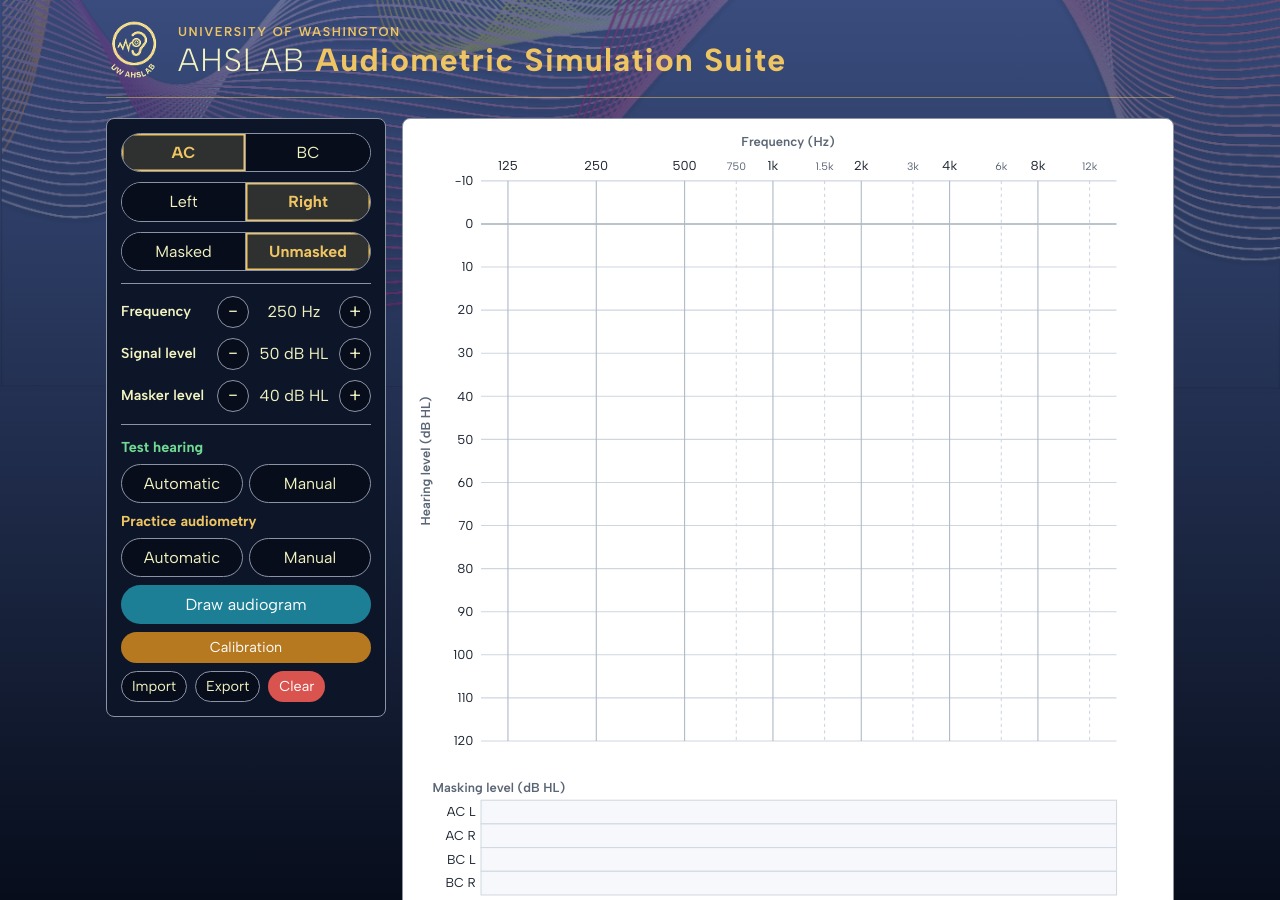
Test: generated draw audiogram › generates the selected scenario and clears its history when a hearing test starts
The width and height of the screenshot is (1280, 900).
Click the button "Draw audiogram" at (246, 605), box [121, 585, 371, 624]
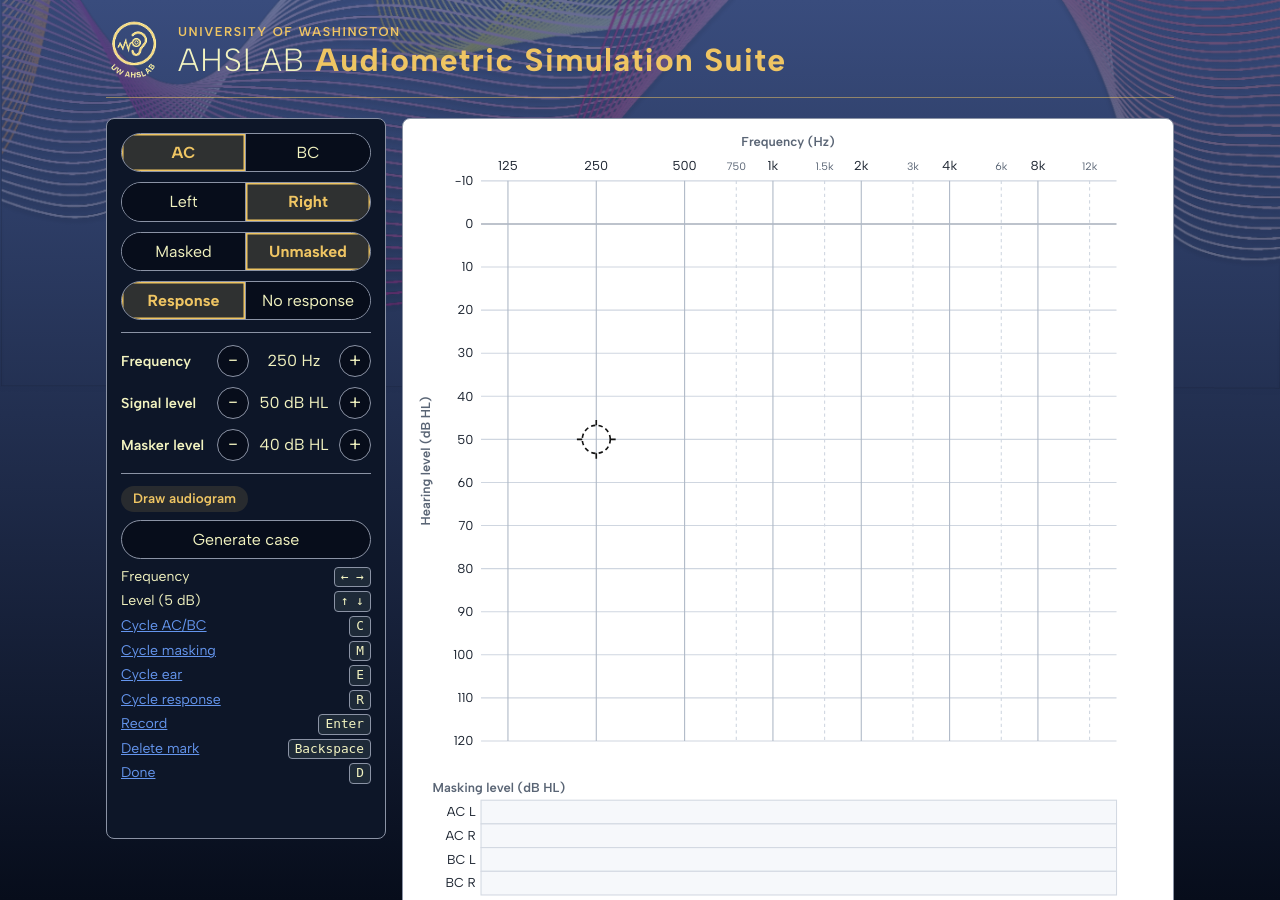
Click the button "Generate case" at (246, 539), box [121, 520, 371, 559]
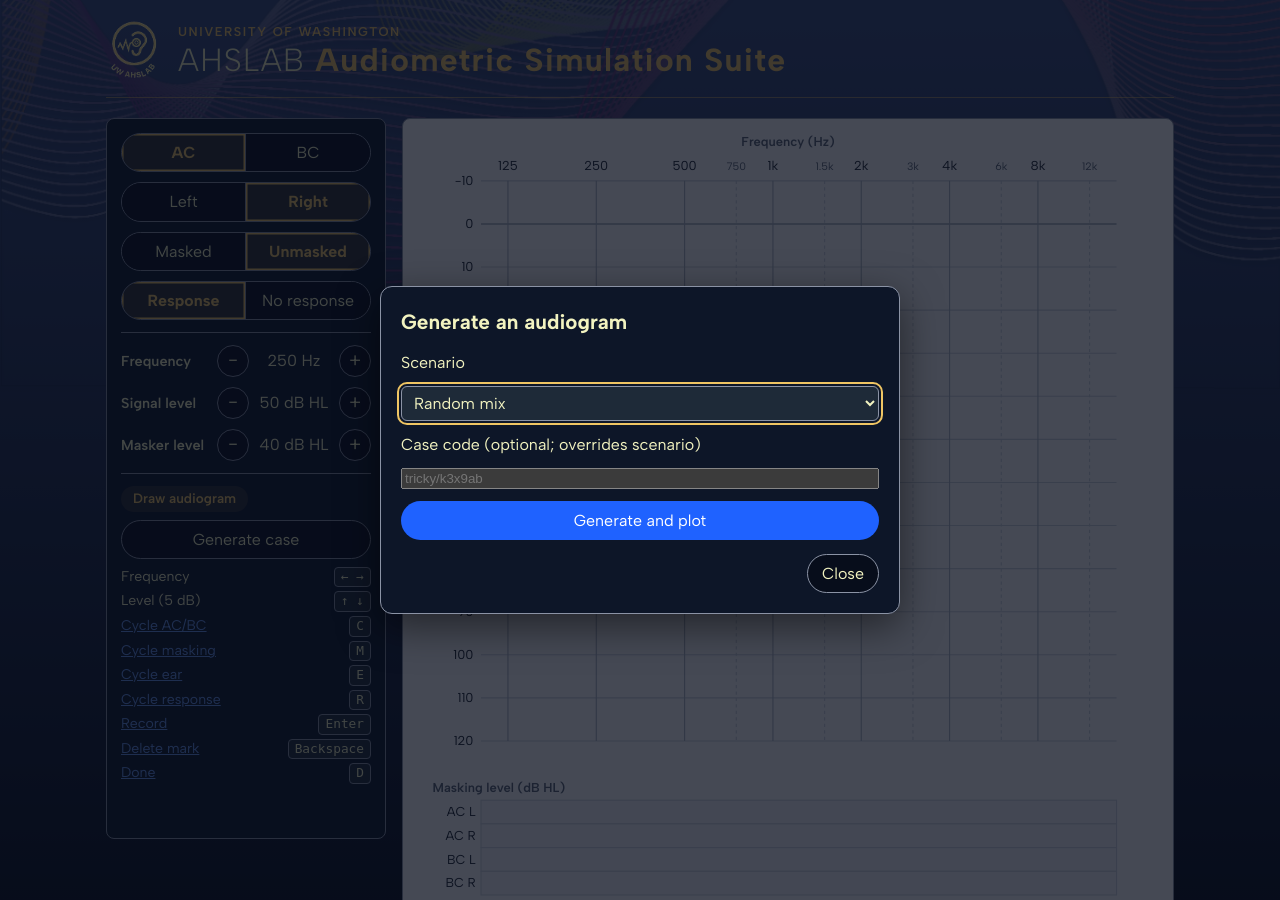
Select "Bilateral large conductive loss (masking dilemma)" in the dropdown labelled "Scenario" at (640, 403), box [401, 386, 879, 421]
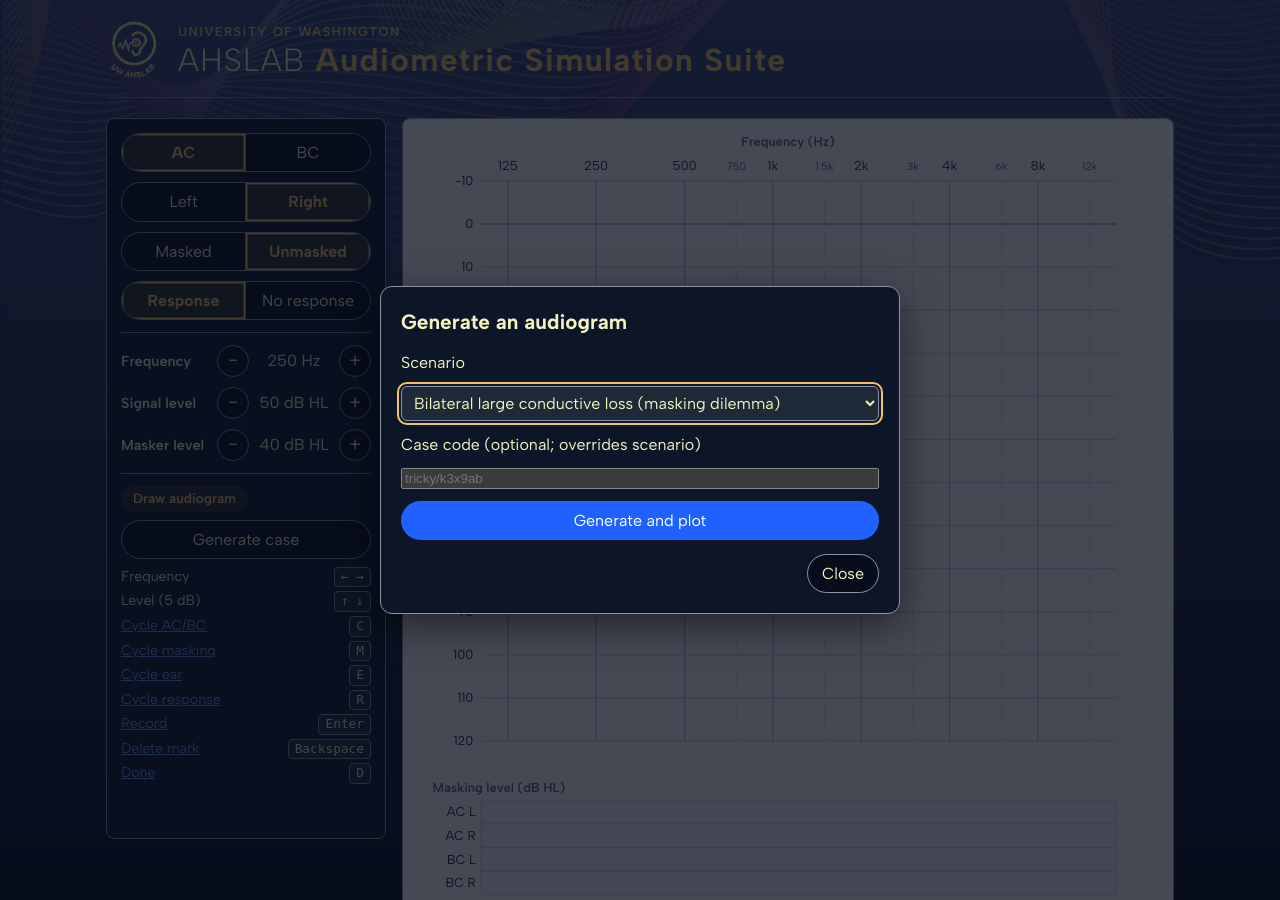
Click the button "Generate and plot" at (640, 521), box [401, 501, 879, 540]
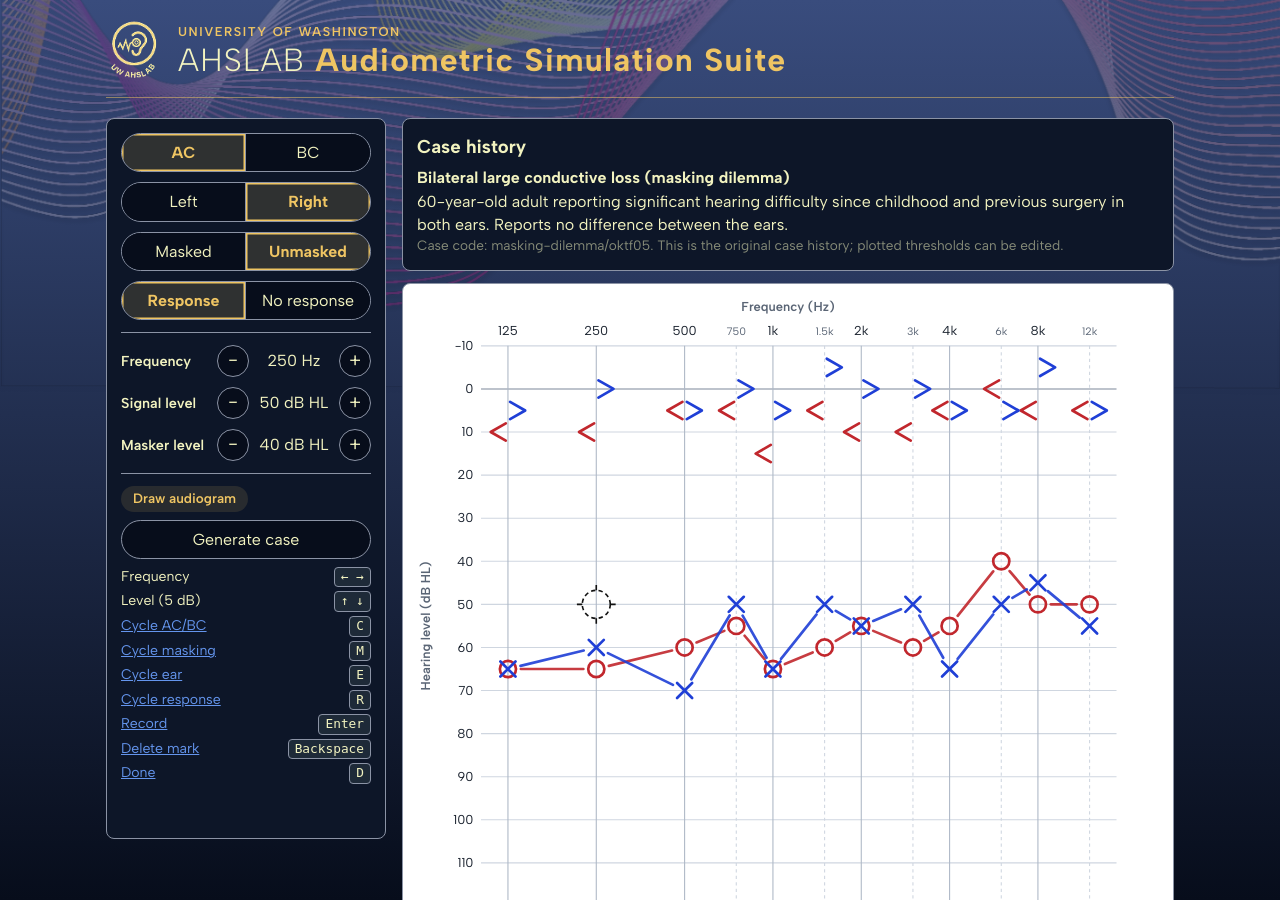
Check: the element "Case history" shows "masking-dilemma/", box [491, 237, 650, 253]
Click the button "Done" at (138, 774), box [121, 763, 155, 784]
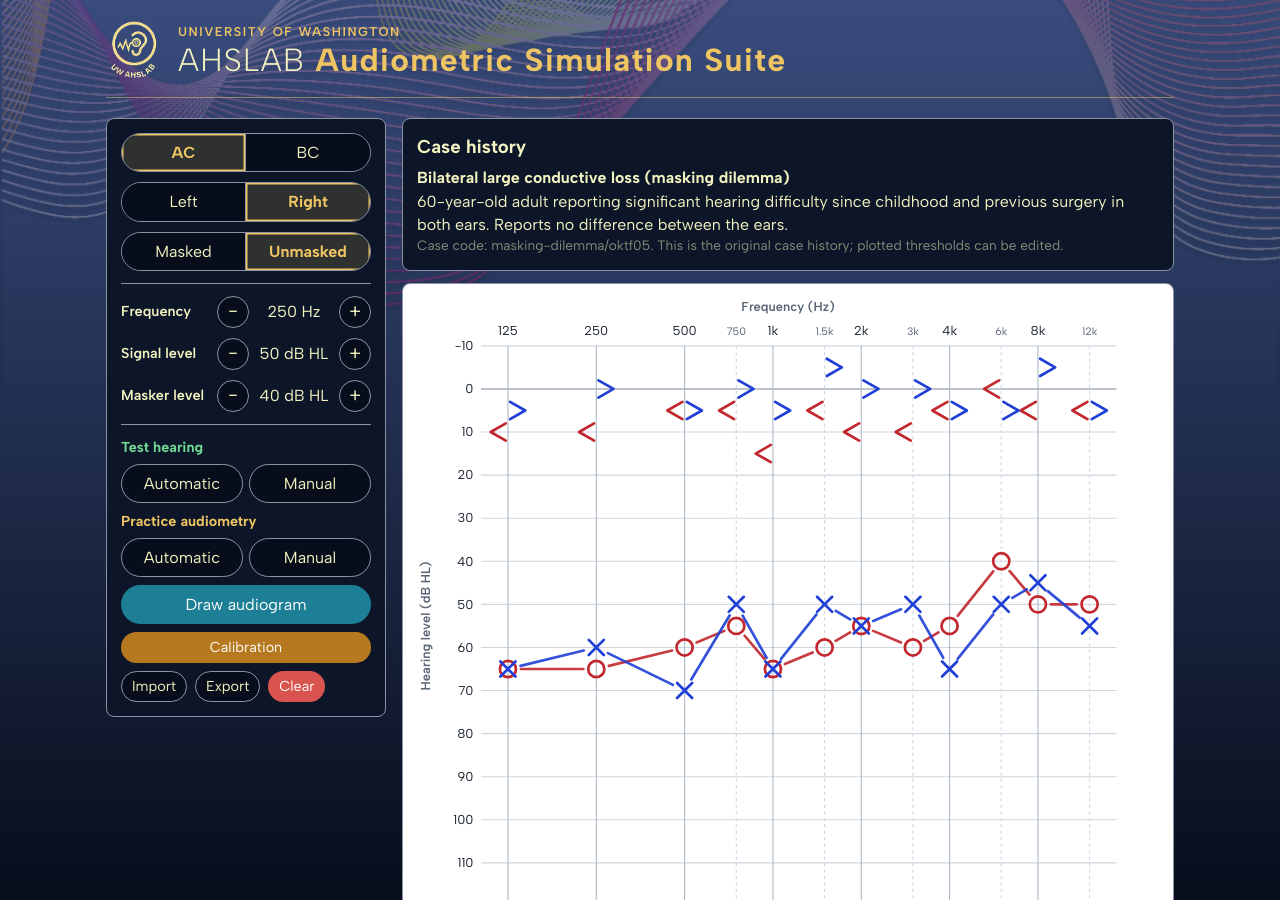
Click the button "Automatic" below "Test hearing" at (182, 483), box [121, 464, 243, 503]
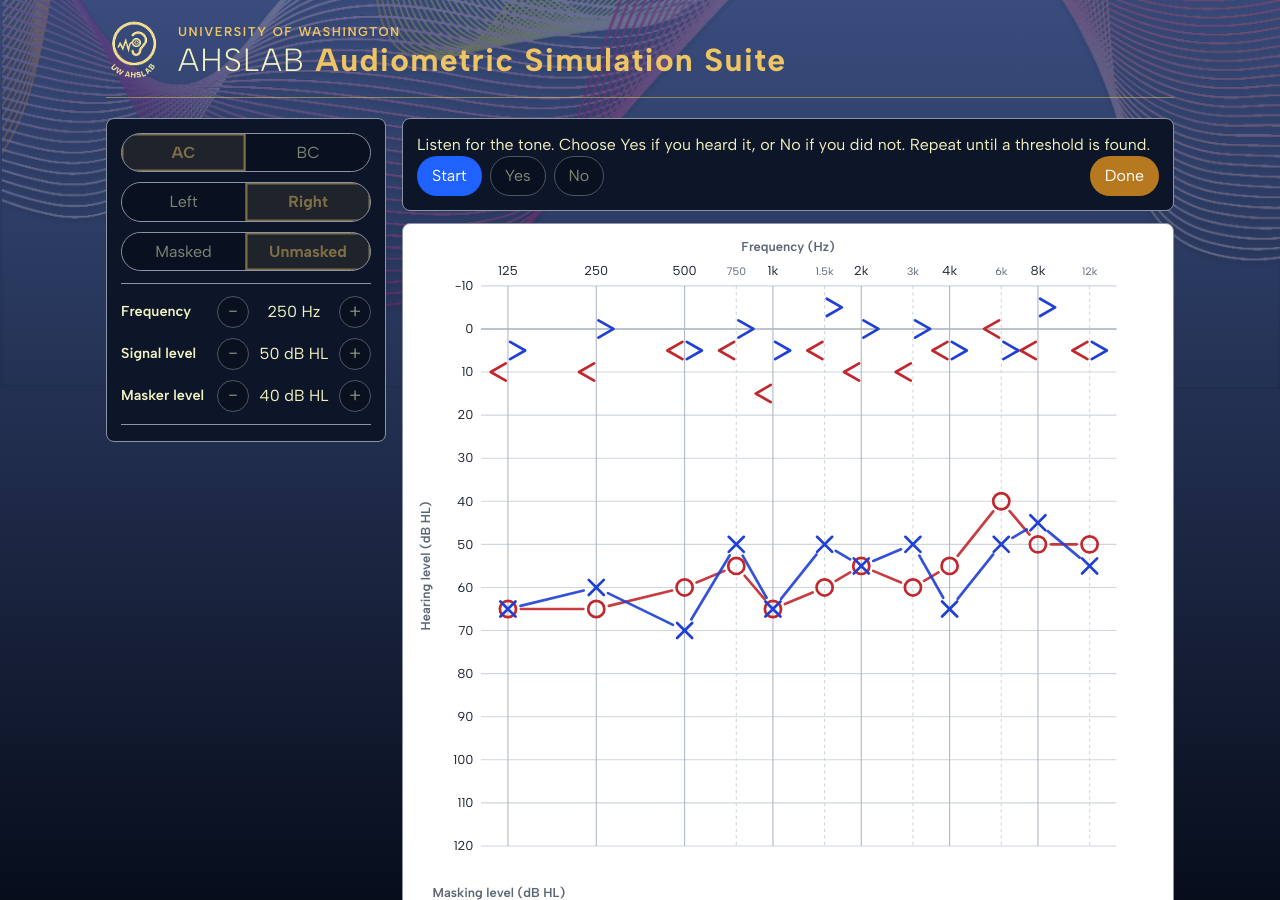
Check: the heading "Case history" is gone
